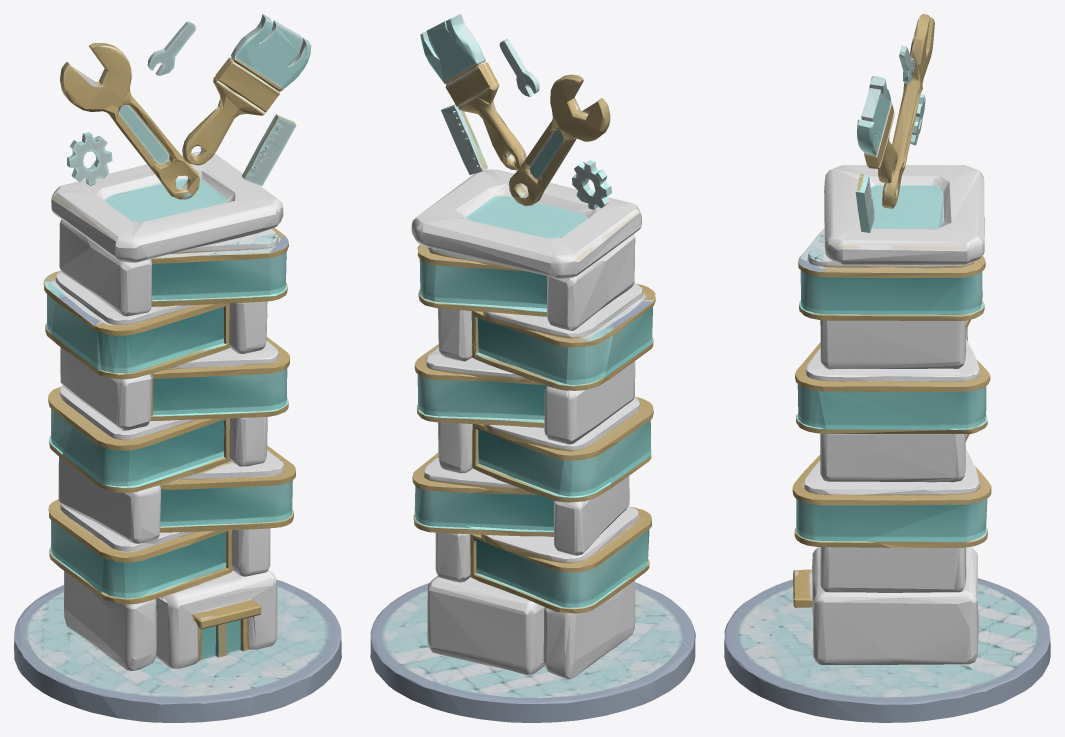
File: tower.glb
3 renders of one model, left to right at view 1: azimuth 30°, elevation 25°; view 2: azimuth 150°, elevation 25°; view 3: azimuth 270°, elevation 25°, orthographic.
Parts seen in each view (by area): view 1: Mesh_0; view 2: Mesh_0; view 3: Mesh_0.
Part boxes in pixels (box(x1,y1,x2,y2)): Mesh_0: box(14, 14, 341, 722); Mesh_0: box(370, 14, 695, 722); Mesh_0: box(724, 14, 1050, 722).
Bounding box in the file's own units: 0.9084 × 1.9 × 0.9103.
Materials: 1 (1 with a texture image).
